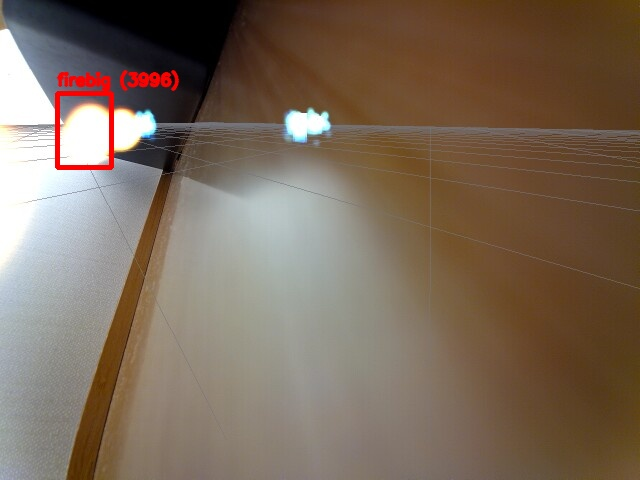firebig: (57, 93, 111, 167)
